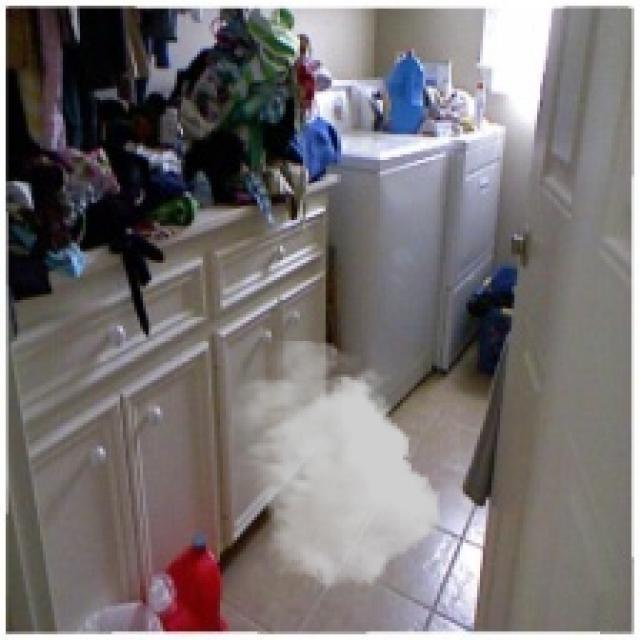Smoke: (232, 341, 439, 588)
